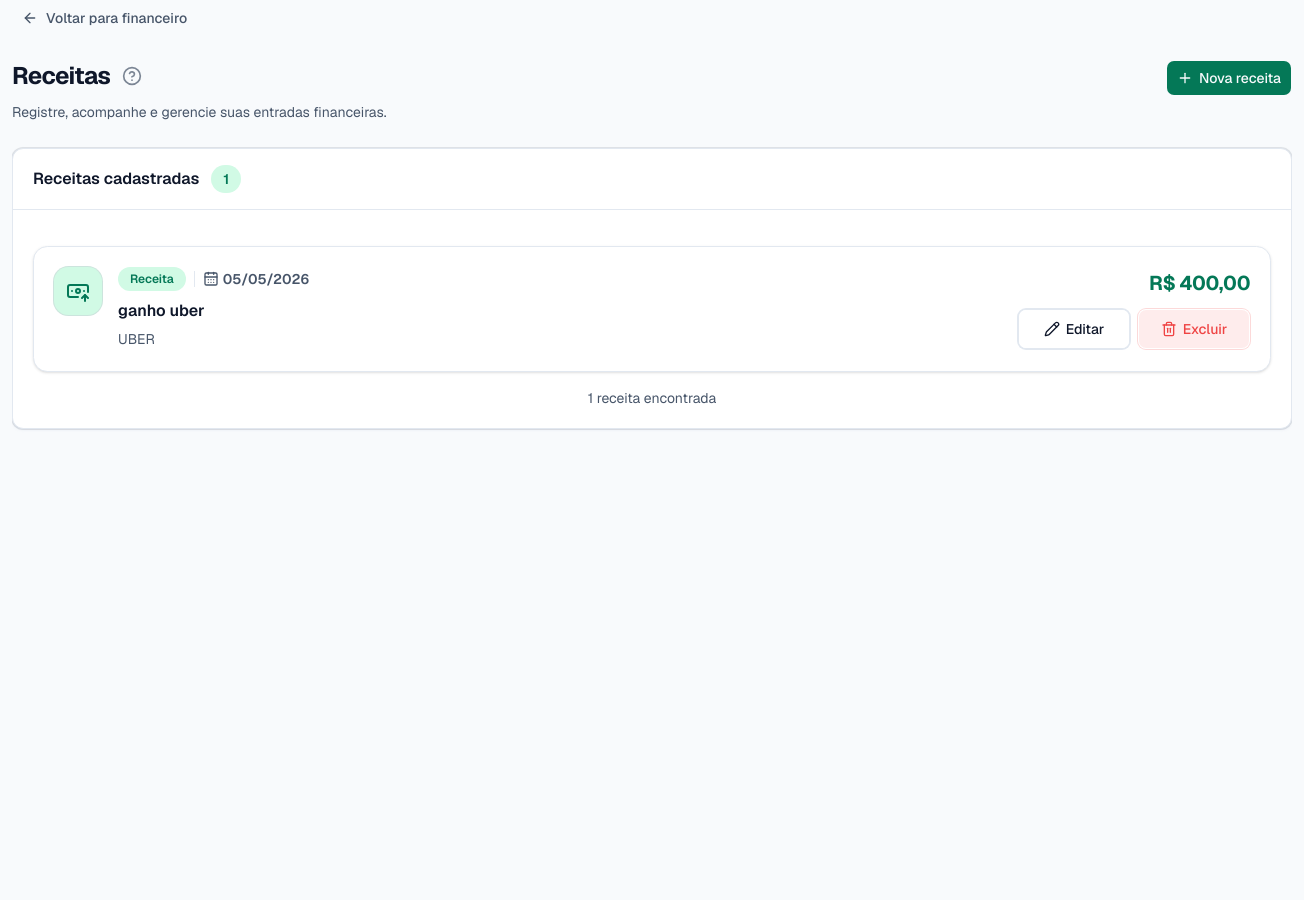
FinanceIncomesPageContent › should open edit income form
Click the button "Editar" at (1074, 329), box [1018,309,1130,349]
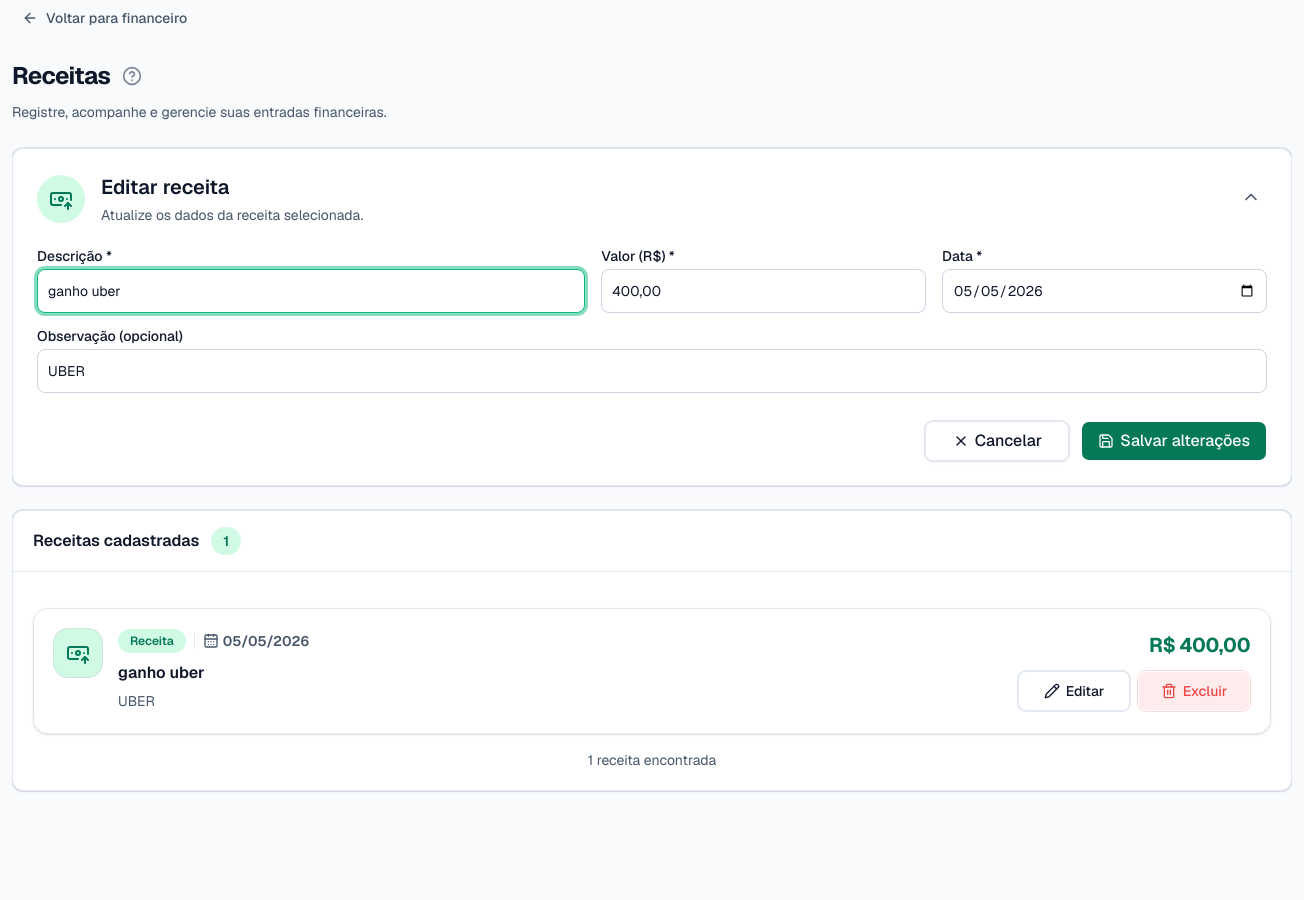
Check: the heading "Editar receita" is shown, box [101,174,229,200]
Check: the field showing "ganho uber" is shown, box [37,269,585,313]
Check: the field showing "400,00" is shown, box [601,269,926,313]
